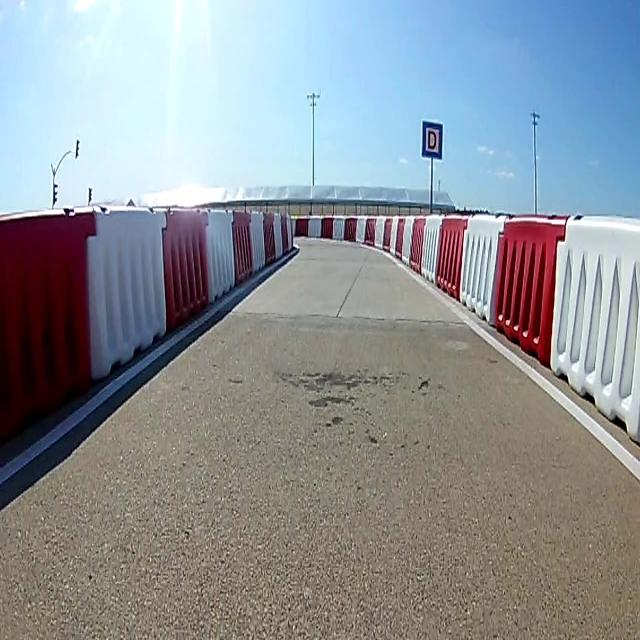durak: (422, 120, 442, 157)
